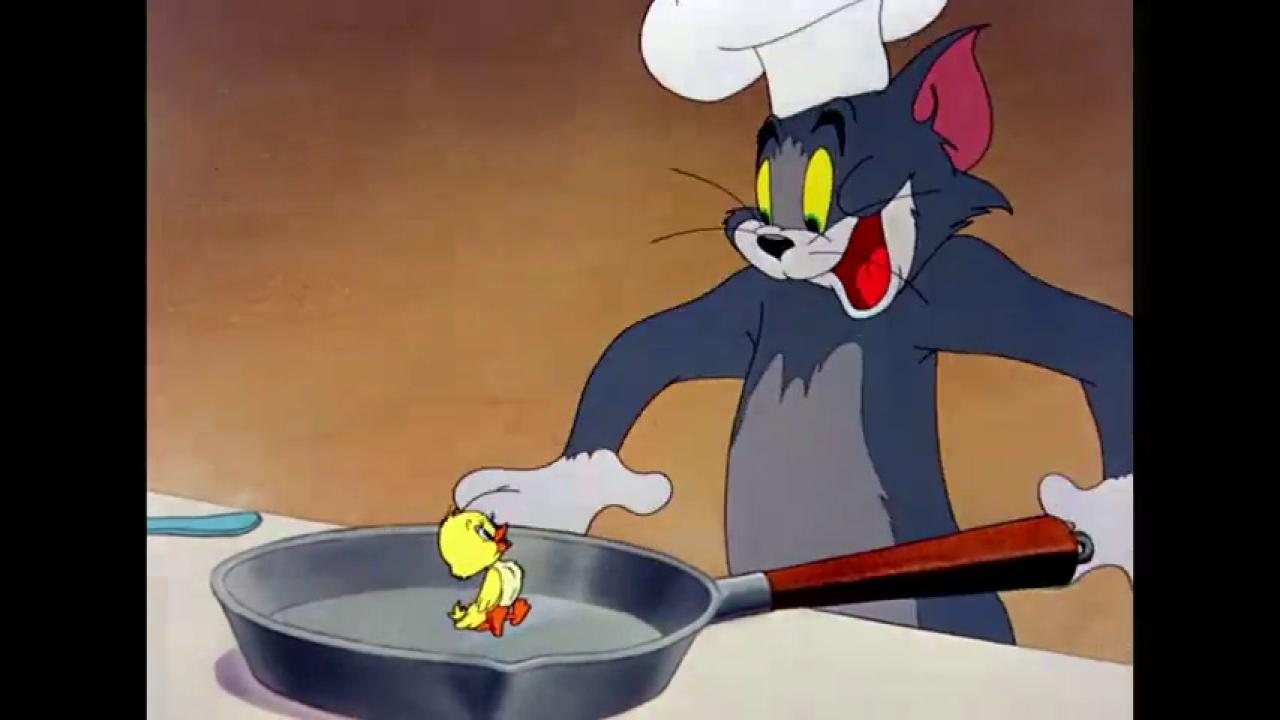Tom: (450, 23, 1133, 648)
